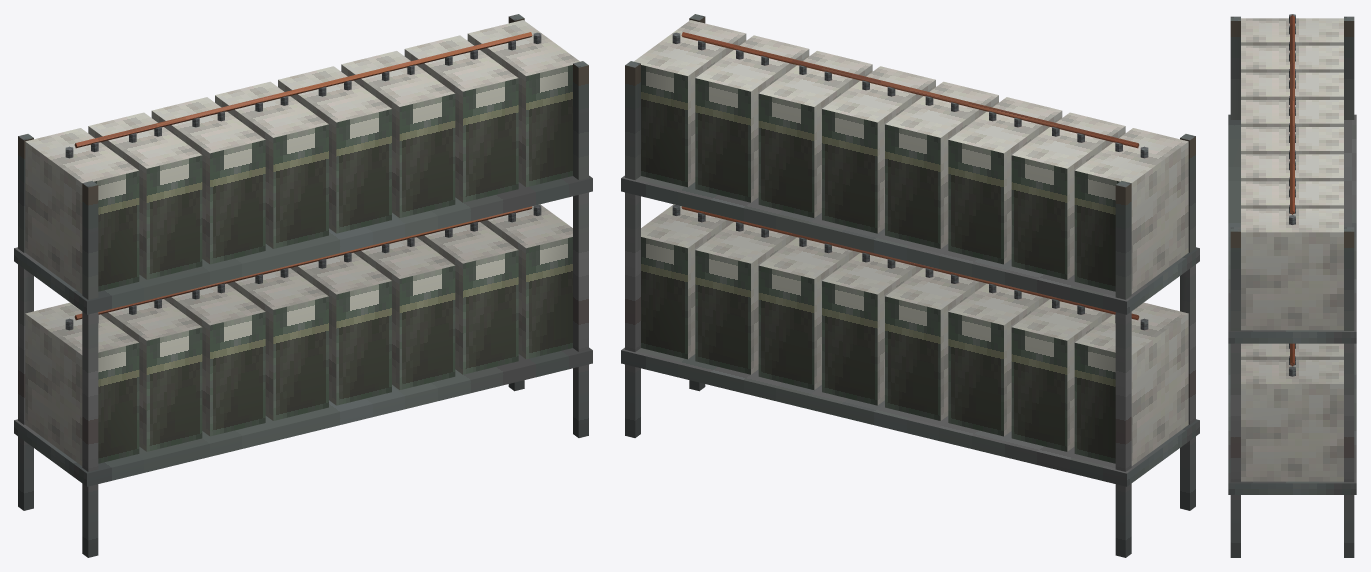
The model's file is battery_bank.glb.
3 views of the same model, side by side, from view 1: azimuth 30°, elevation 25°; view 2: azimuth 150°, elevation 25°; view 3: azimuth 270°, elevation 25° (orthographic). The views are drawn at different scales.
Parts seen in each view (by area): view 1: battery_bank; view 2: battery_bank; view 3: battery_bank.
Boxes of the visible parts, x1,y1,x2,y2 form: battery_bank: (14, 14, 592, 557); battery_bank: (621, 14, 1199, 557); battery_bank: (1228, 14, 1356, 557).
Size of the model in its own units: 2 by 1.45 by 0.5.
Materials: 1 (1 with a texture image).
